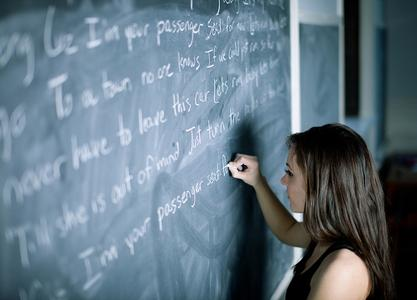person: (232, 124, 393, 299)
